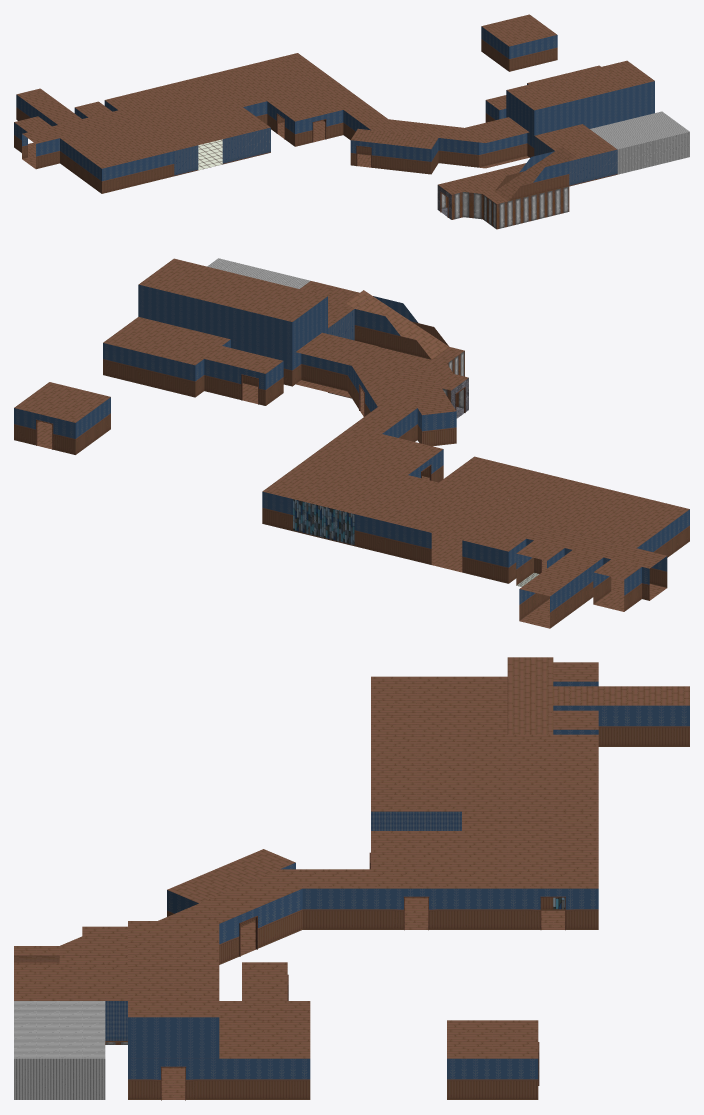
File: final_grandplayarea.fbx
The picture shows the model from 3 angles, top to bottom: view 1: azimuth 30°, elevation 25°; view 2: azimuth 150°, elevation 25°; view 3: azimuth 270°, elevation 25°; orthographic projection. The views are drawn at different scales.
Parts seen in each view (by area): view 1: Grand Play Area; view 2: Grand Play Area; view 3: Grand Play Area.
Part boxes in pixels (bbox=[...]): Grand Play Area: bbox=[14, 14, 689, 229]; Grand Play Area: bbox=[14, 258, 689, 628]; Grand Play Area: bbox=[14, 657, 689, 1100].
Bounding box in the file's own units: 65.16 × 46.34 × 9.38.
Materials: 12 (12 with a texture image).
